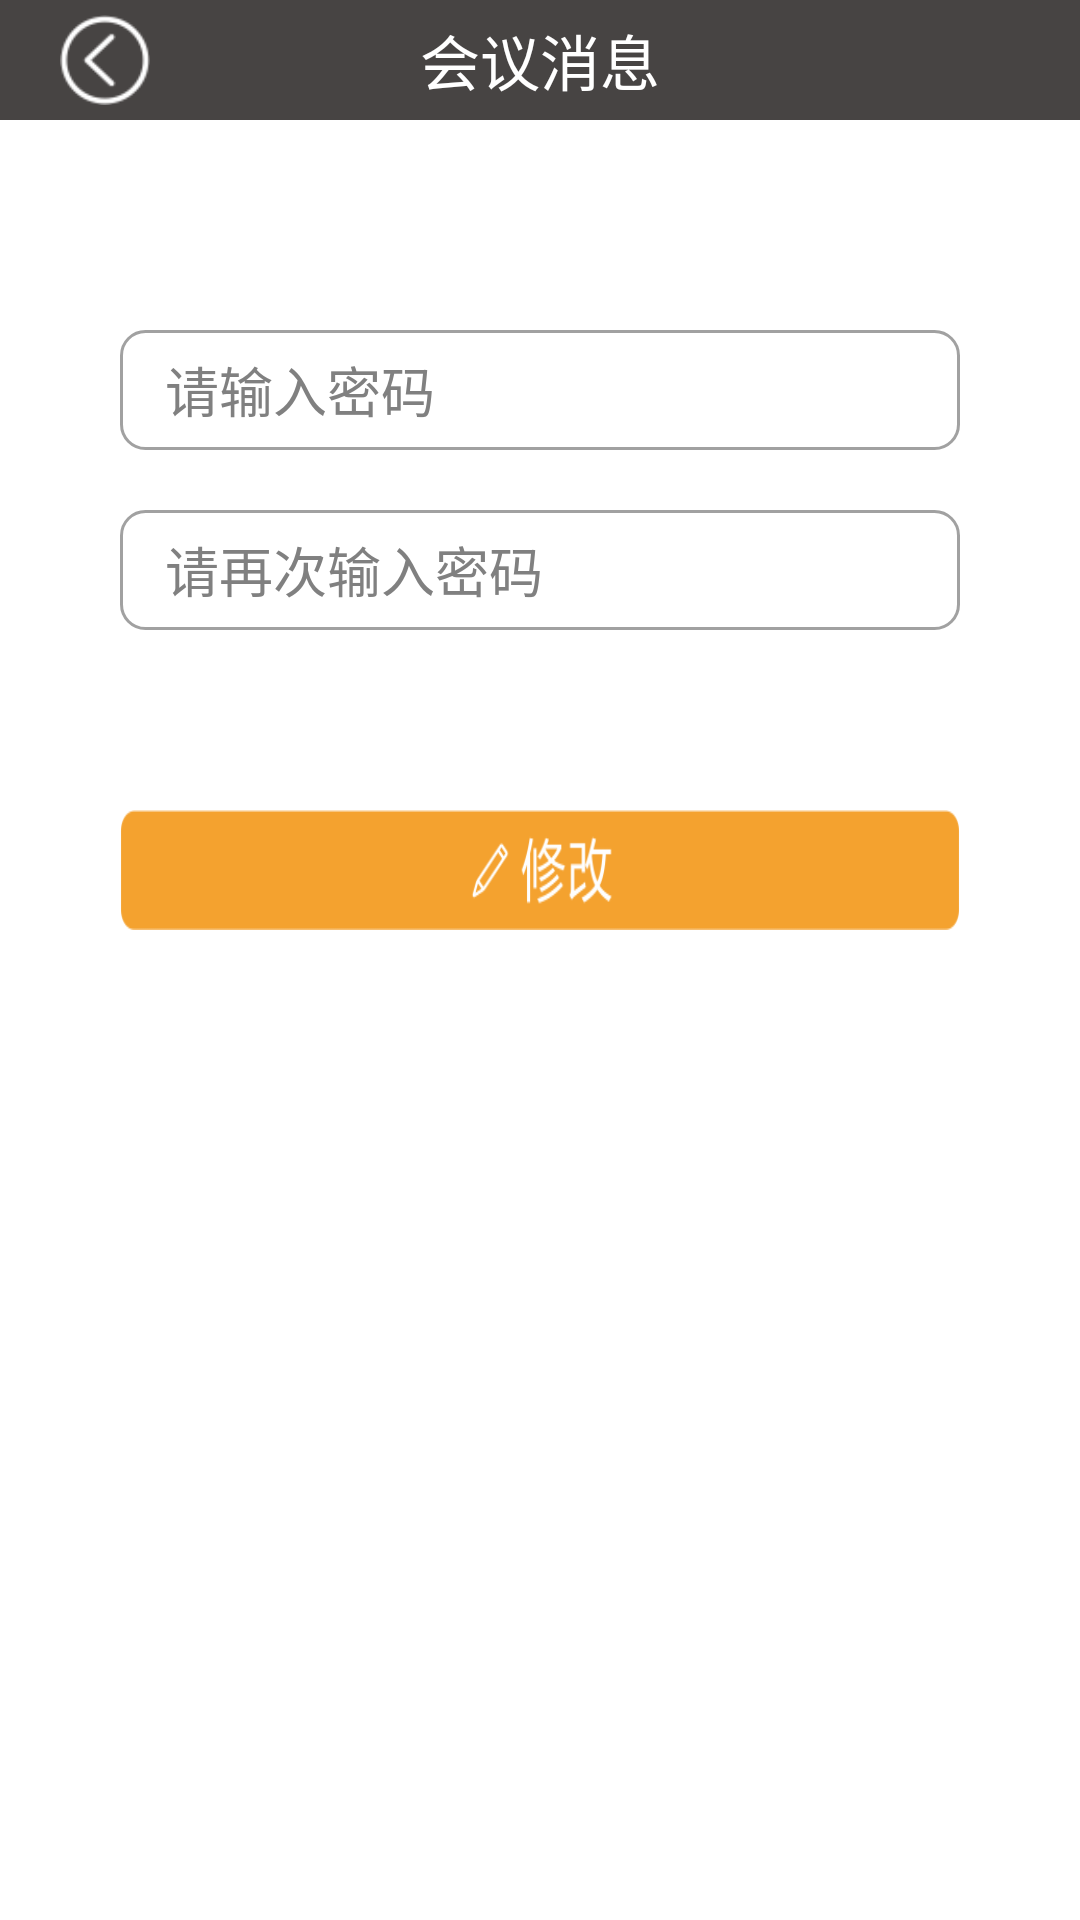

Icons on this 1080×1920 Android screen, each with the point to tap as (x,y):
goback: (105,60)
